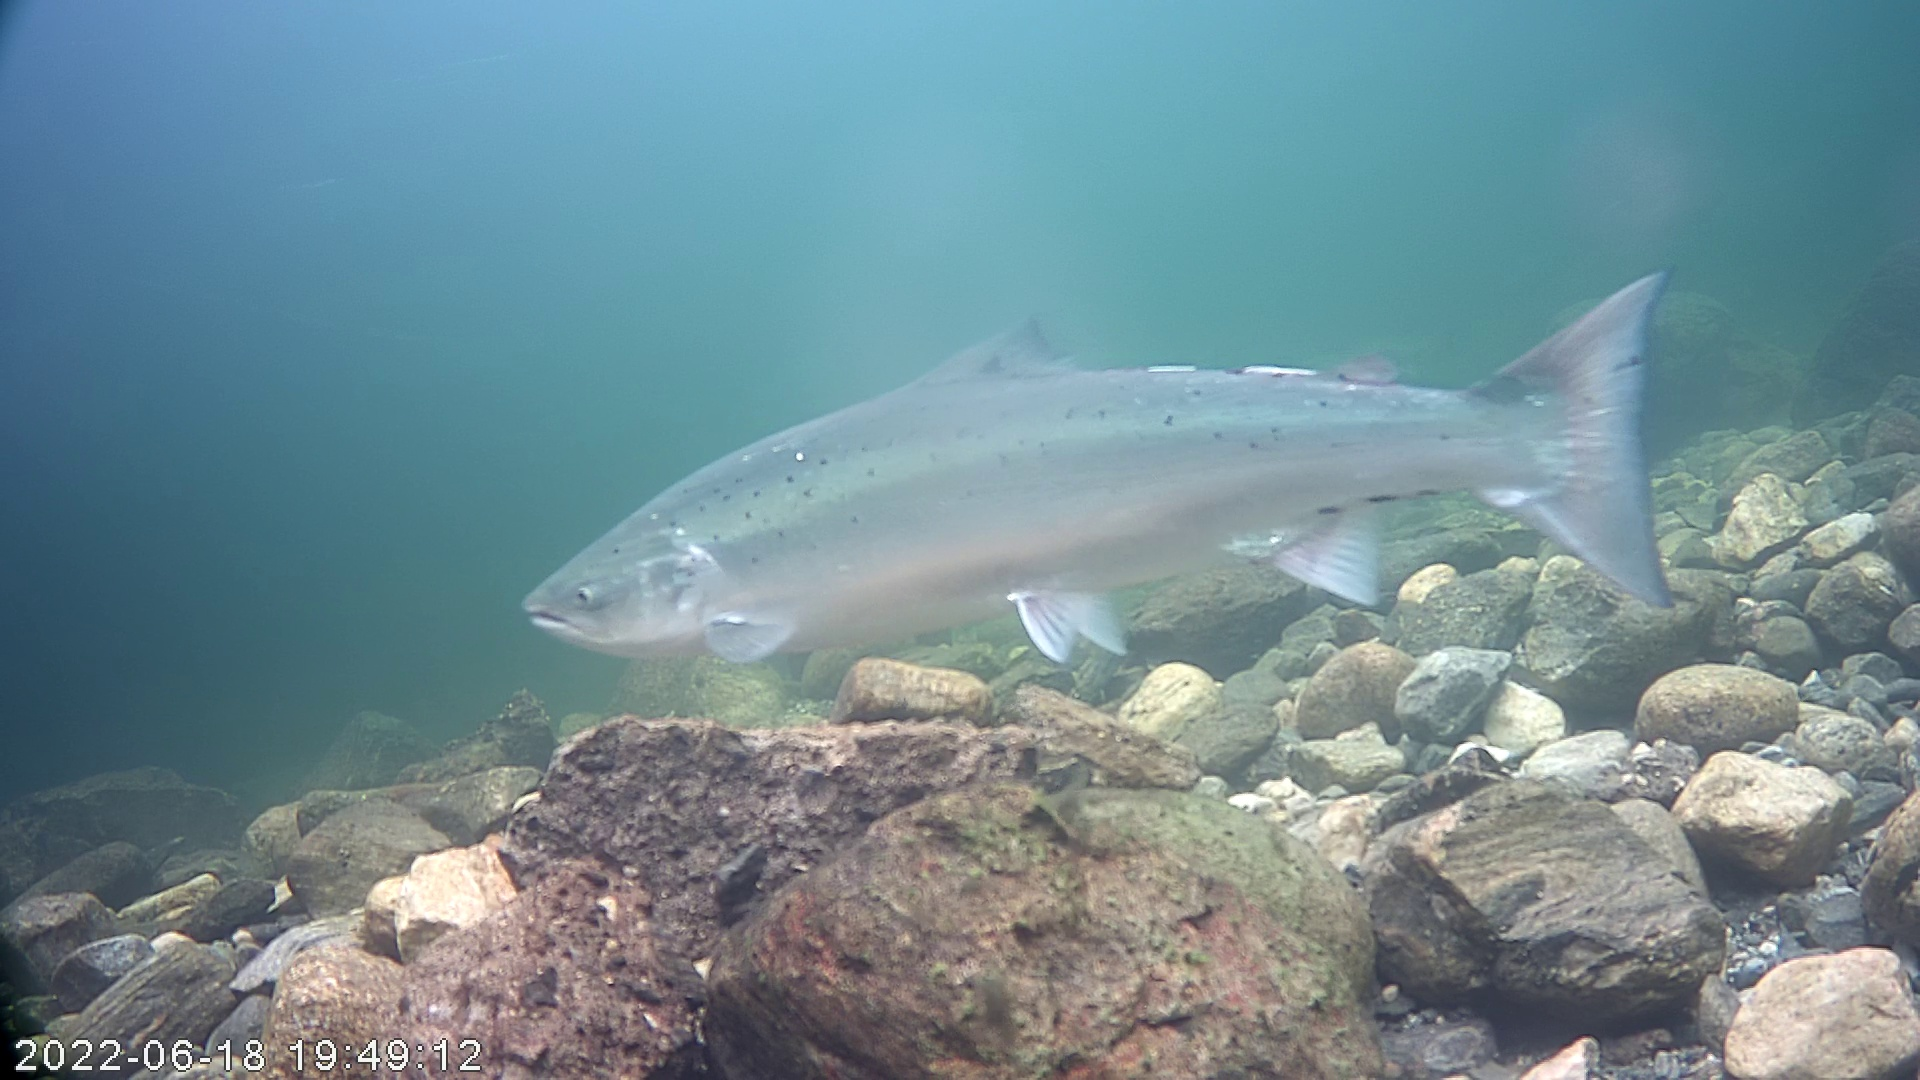salmon: (520, 265, 1679, 667)
